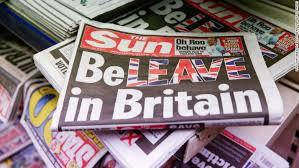Printing industry: (1, 1, 299, 168)
